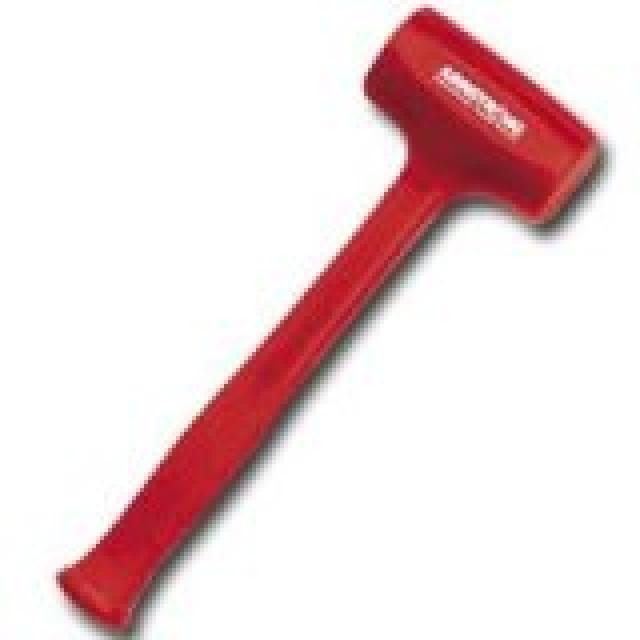hammer: (47, 0, 608, 639)
